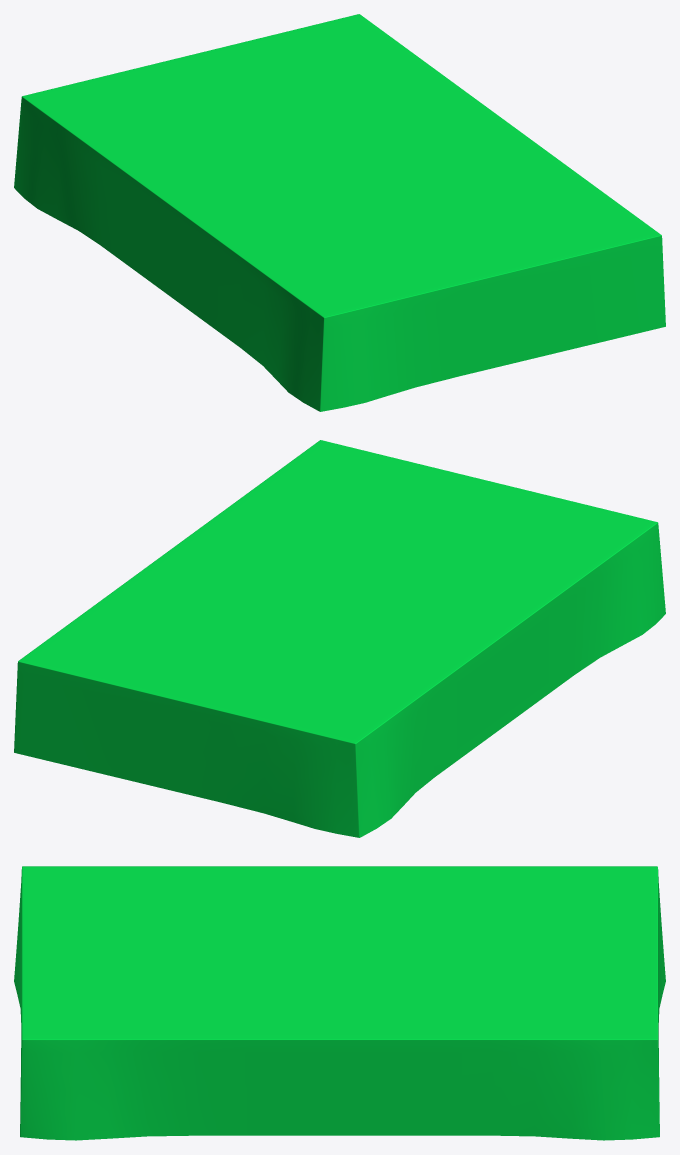
Rendered from Tablecloth_01.fbx.
3 renders of one model, top to bottom at view 1: azimuth 30°, elevation 25°; view 2: azimuth 150°, elevation 25°; view 3: azimuth 270°, elevation 25°, orthographic. The views are drawn at different scales.
Parts seen in each view (by area): view 1: Tablecloth_01; view 2: Tablecloth_01; view 3: Tablecloth_01.
Boxes of the visible parts, x1,y1,x2,y2 form: Tablecloth_01: (14, 14, 665, 411); Tablecloth_01: (14, 440, 665, 837); Tablecloth_01: (14, 866, 665, 1140).
Bounding box in the file's own units: 1208 × 296 × 1817.
